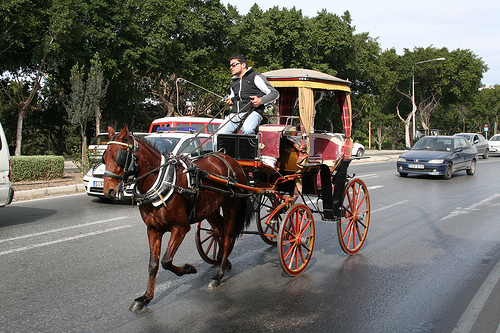horse: (104, 126, 249, 315)
